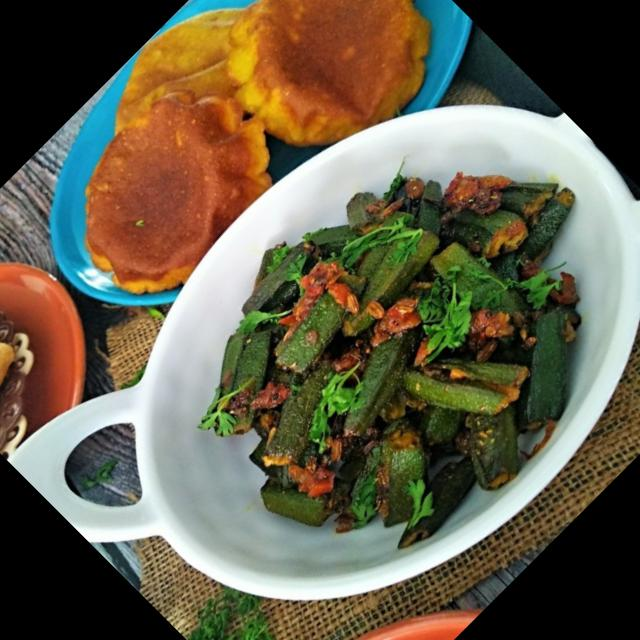BhindiMasala: (137, 66, 640, 616)
